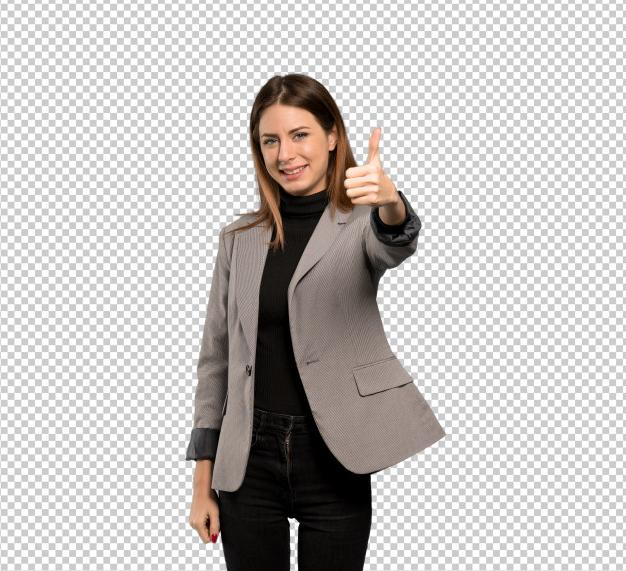thumbsup: (343, 126, 385, 206)
